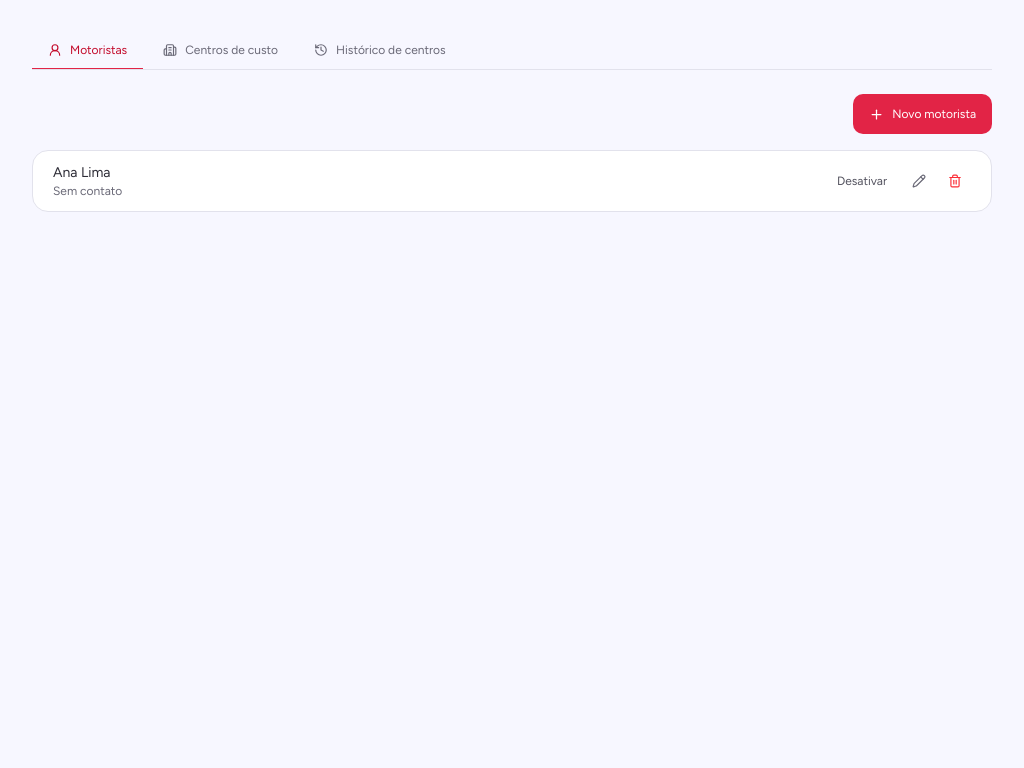
it: Cadastros: remover com histórico vira desativar › a confirmação já avisa que, com histórico, o motorista não é apagado
Step 1. Click the button named "Remover Ana Lima" → (955, 181), box [939,165,971,197]
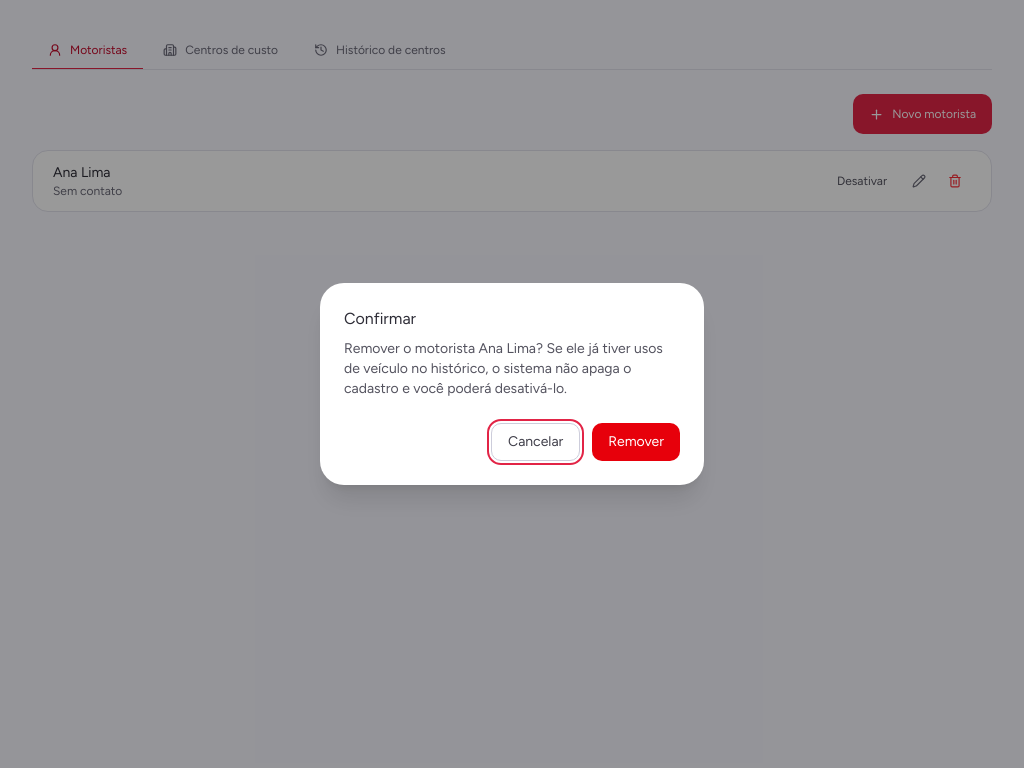
Expected: the dialog shows "não apaga o cadastro e você poderá desativá-lo", [344,340,663,397]
